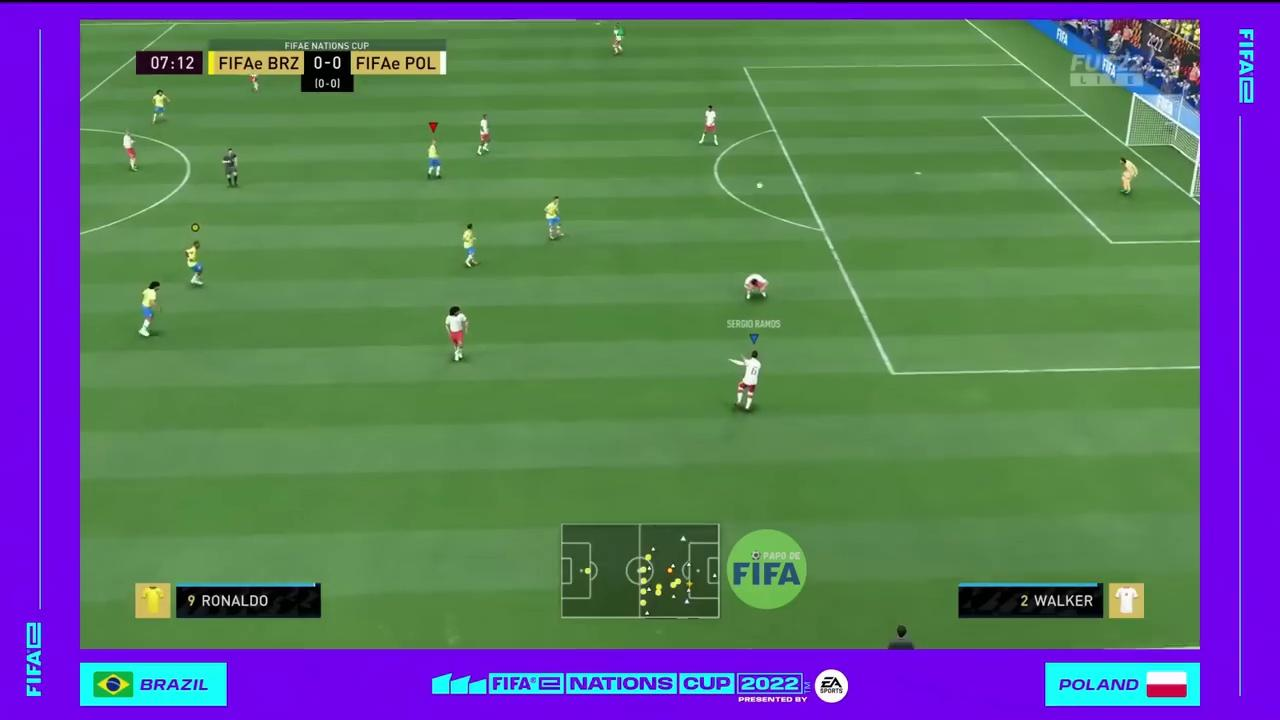scoreboard: (207, 51, 449, 76)
timestamp: (134, 51, 205, 77)
